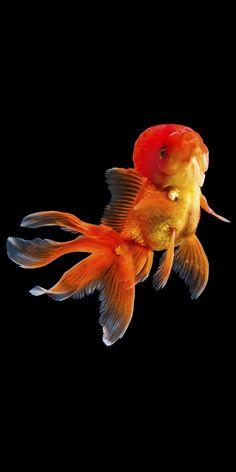goldfish: (9, 123, 229, 349)
